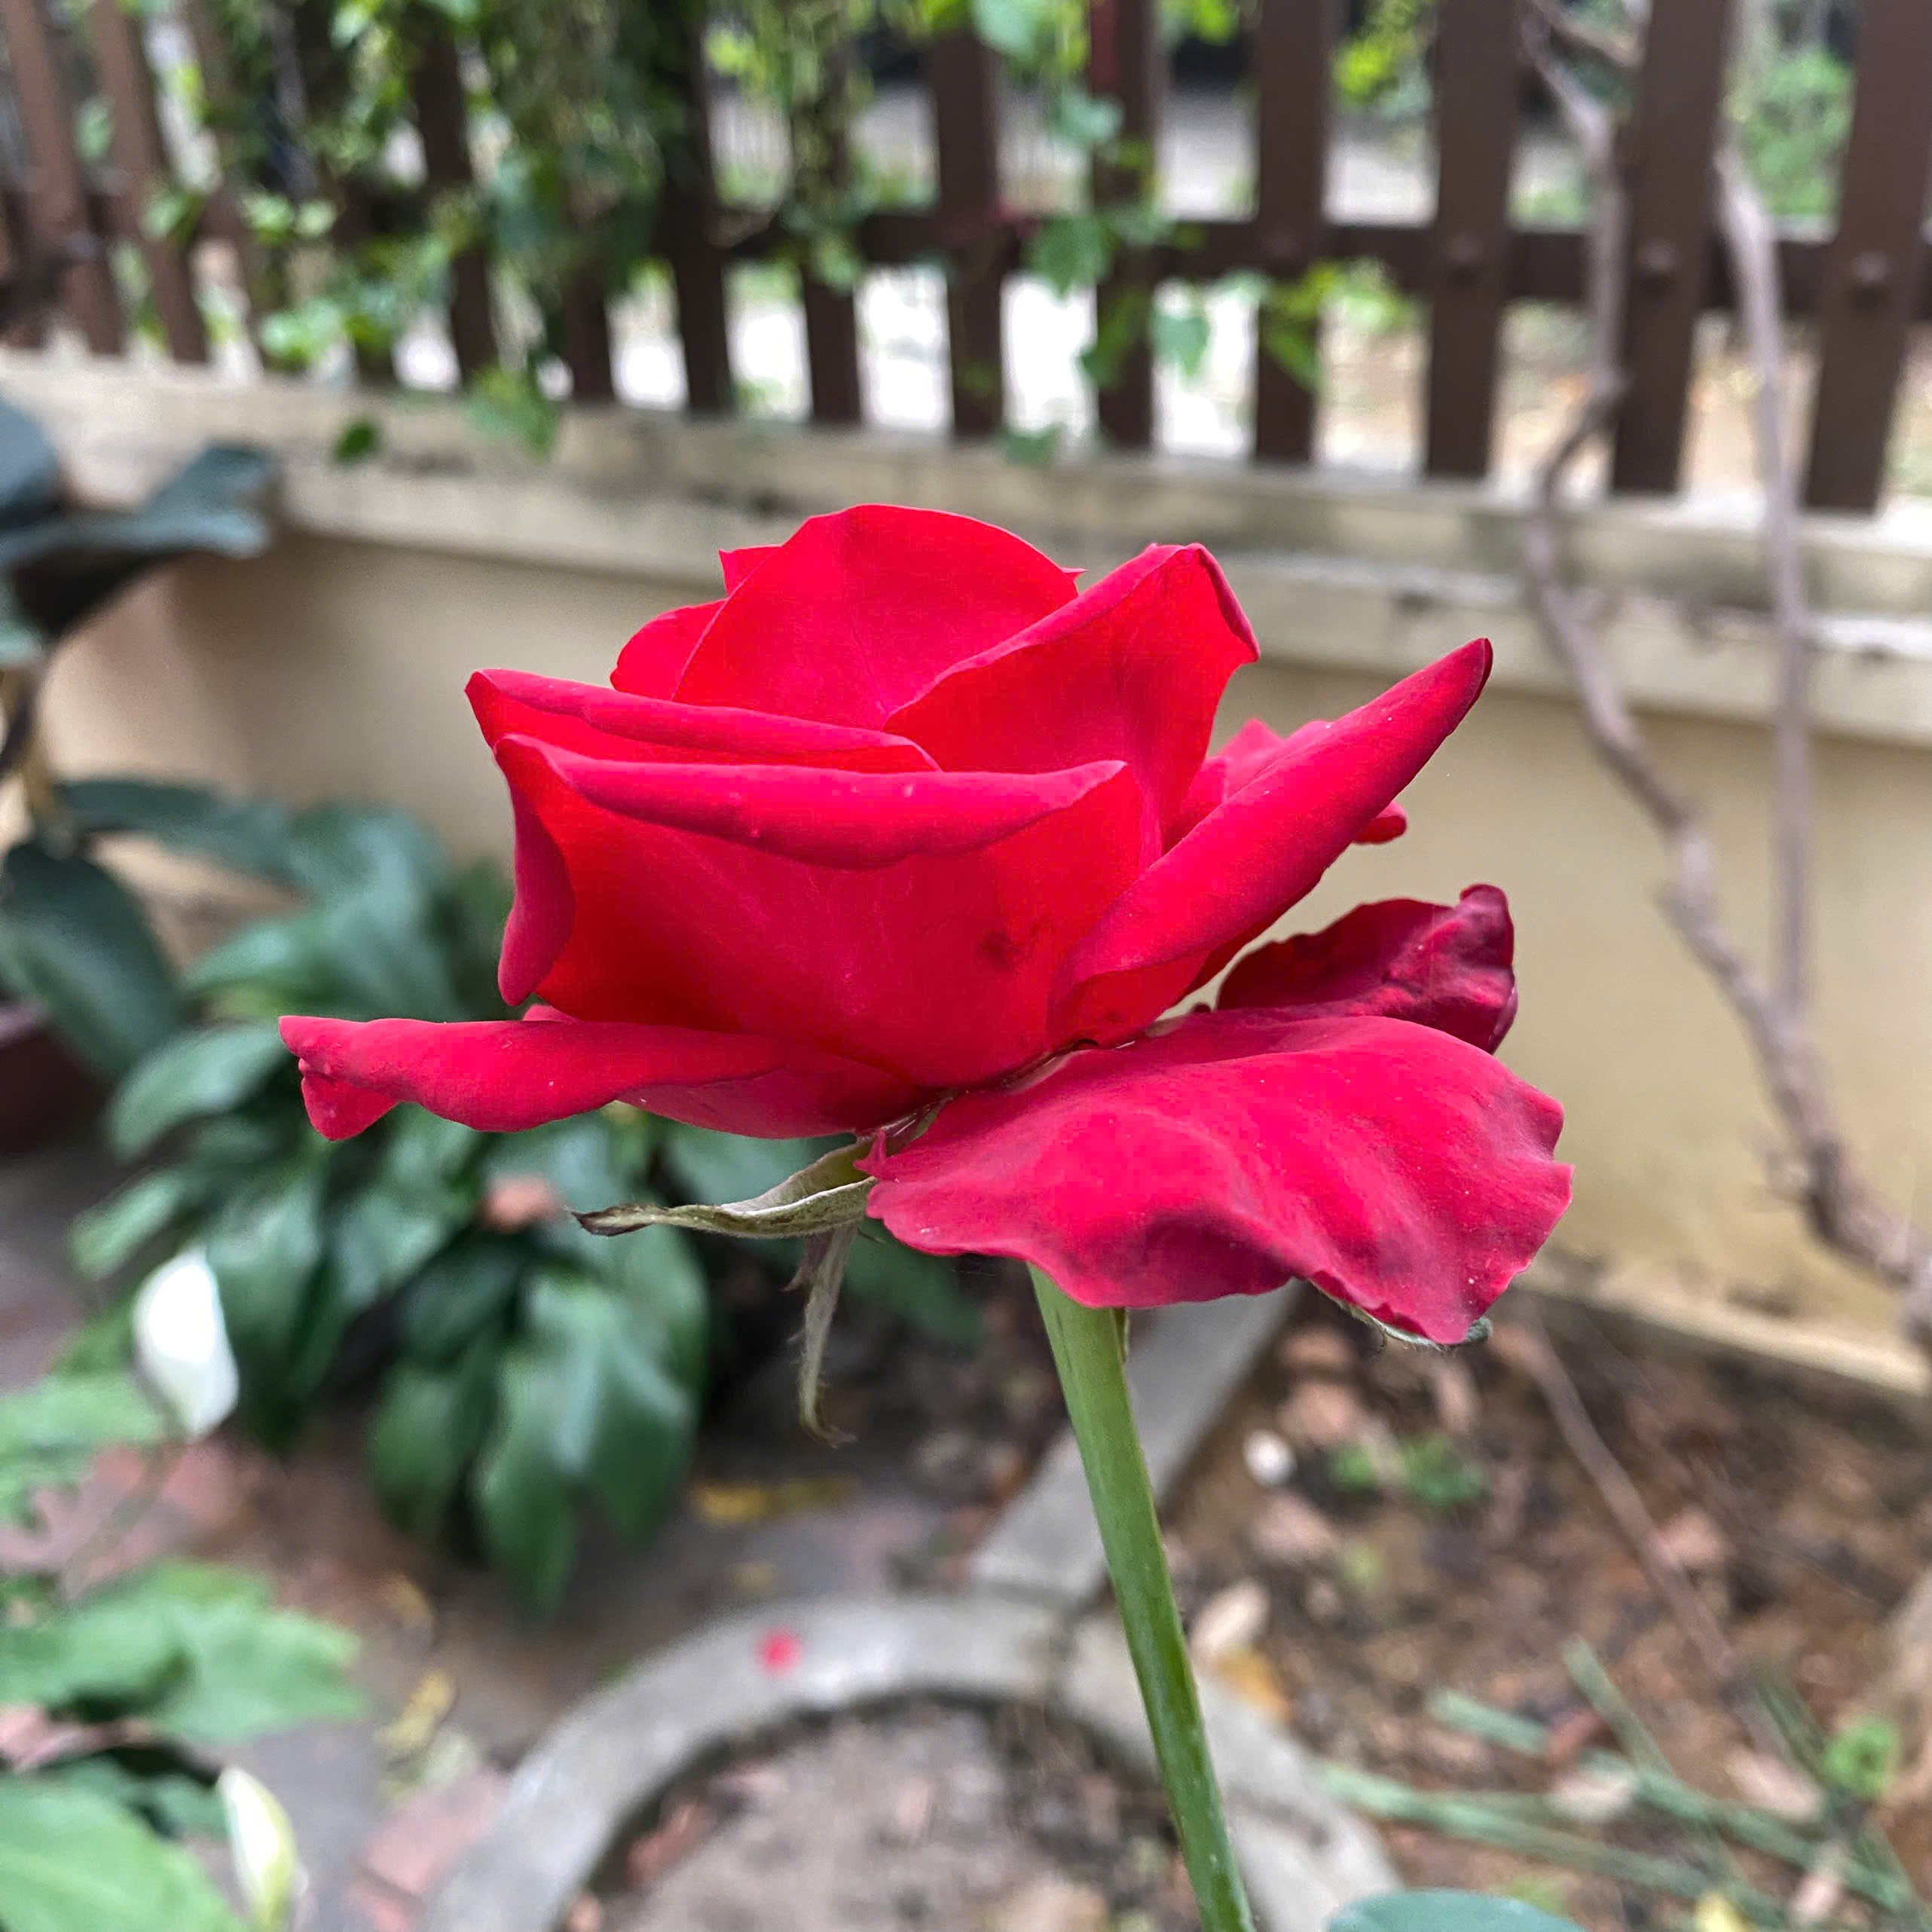hoa_hong_do: (241, 494, 1679, 1932)
